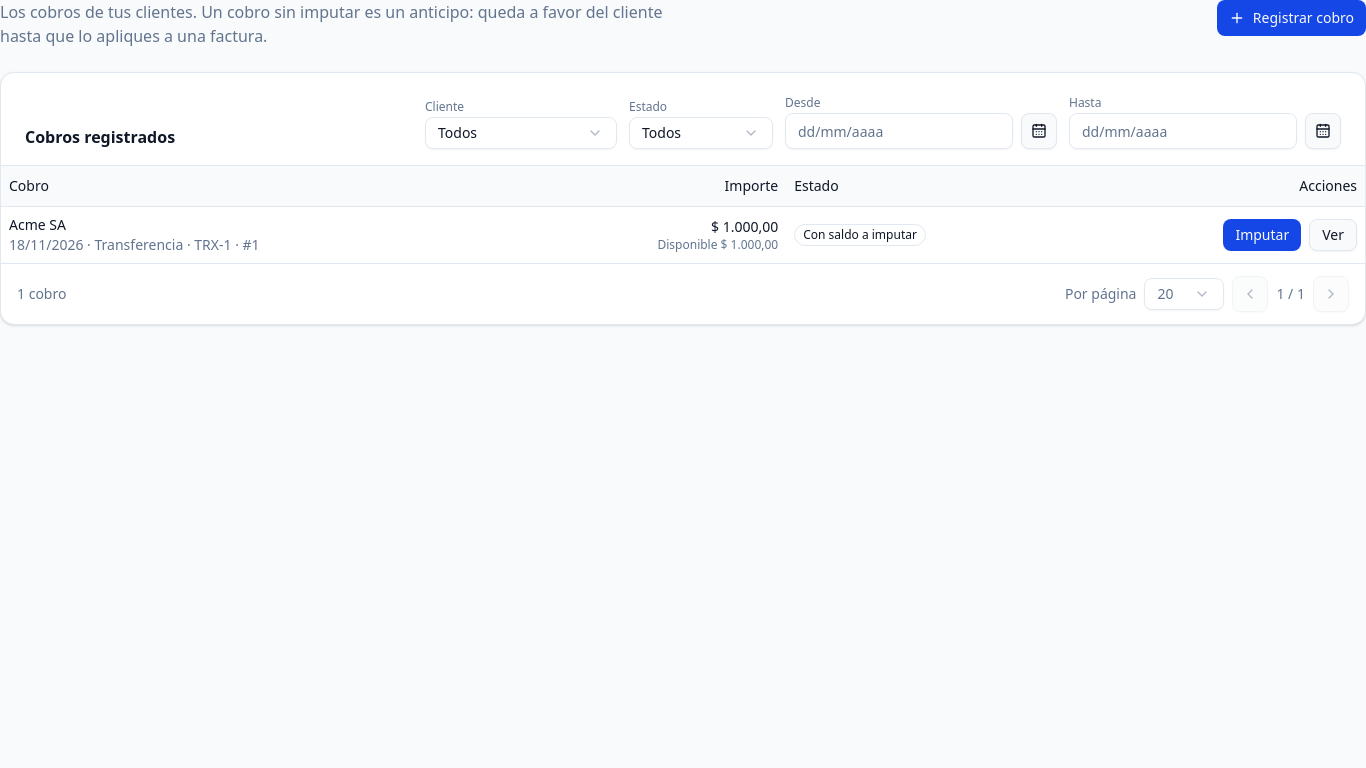
Test: Cobros: registrar › con importe y fecha válidos pero SIN cliente no deja registrar
The image size is (1366, 768).
expect the table is shown: met, box [1,166,1365,262]
Click the button "Registrar cobro" at {"x": 1291, "y": 18}, box [1217,0,1365,36]
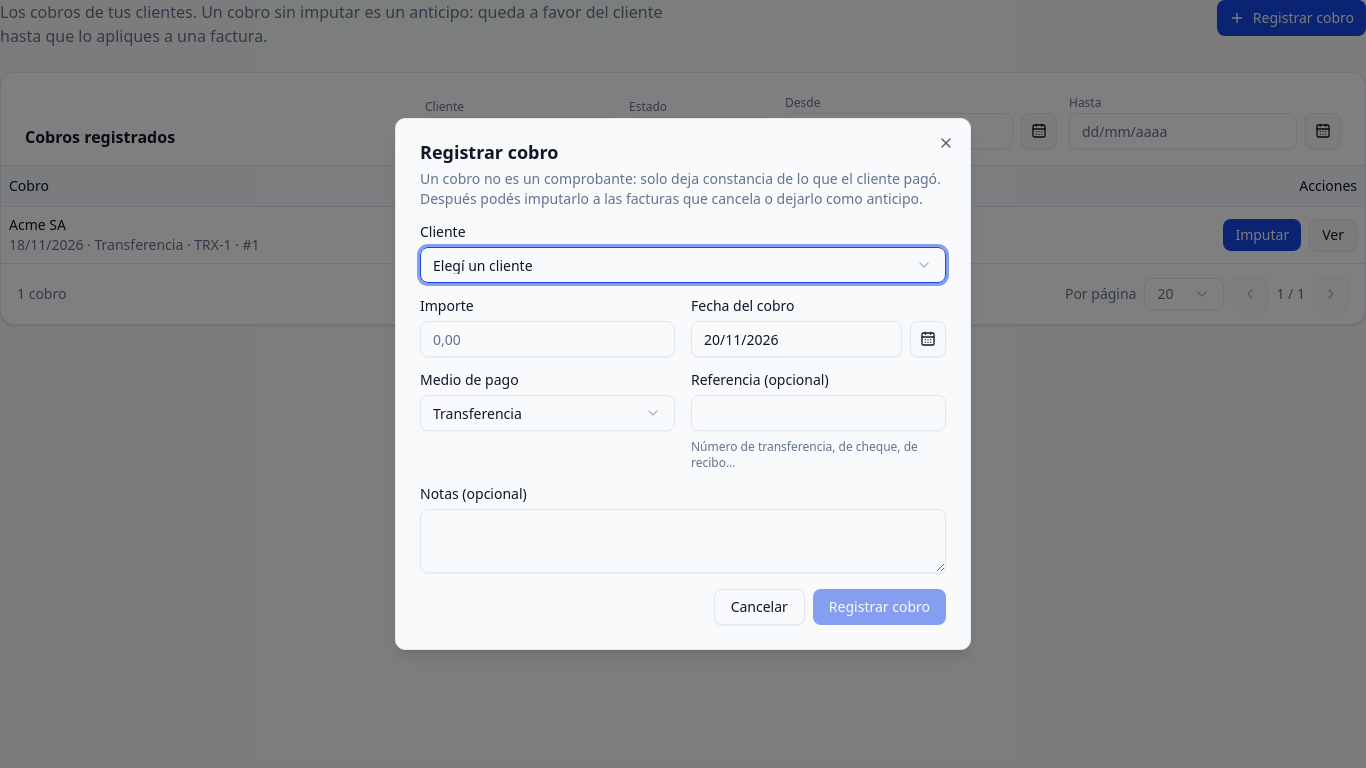
Type "100" into the field labelled "Importe" at {"x": 548, "y": 339}, box [420,321,675,357]
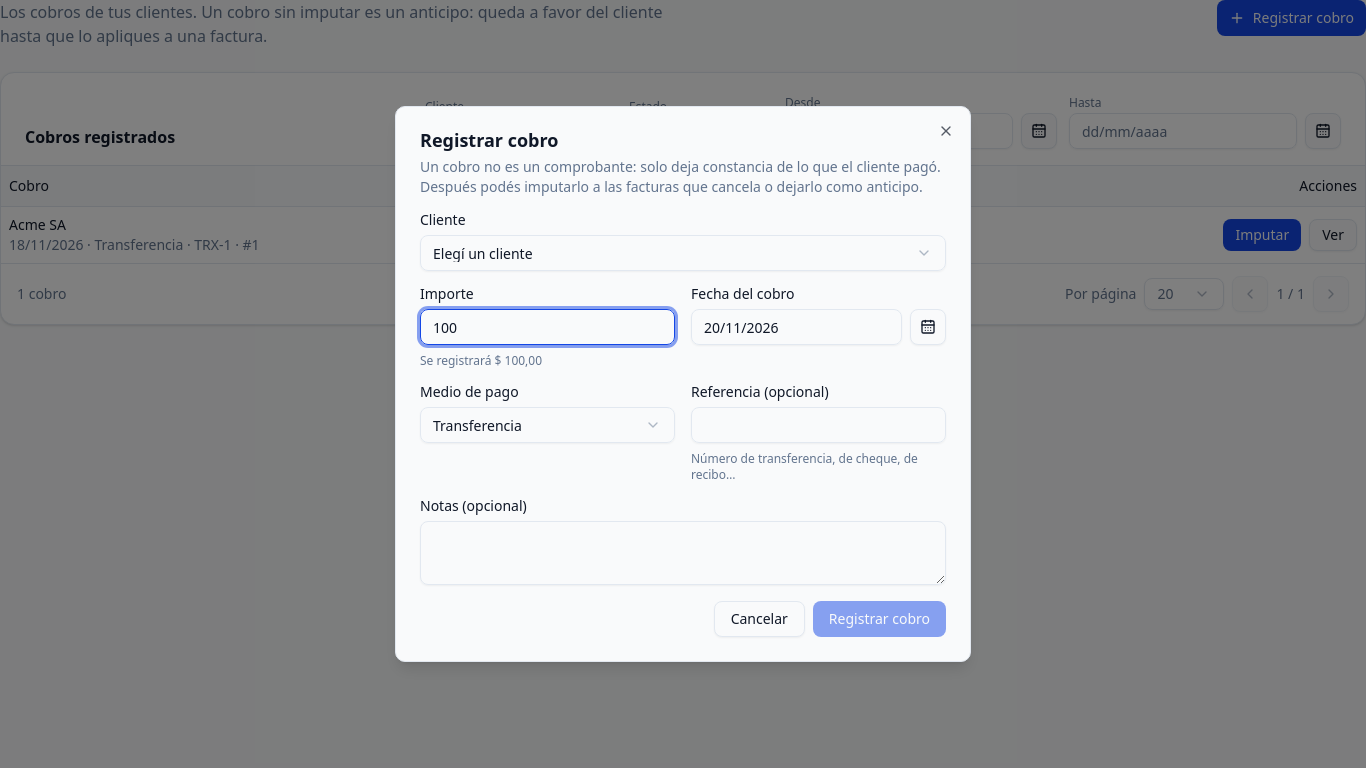
expect the button "Registrar cobro" is disabled: met, box [813,601,946,637]
Select "Acme SA" in the dropdown labelled "Cliente" at {"x": 683, "y": 253}, box [420,235,946,271]
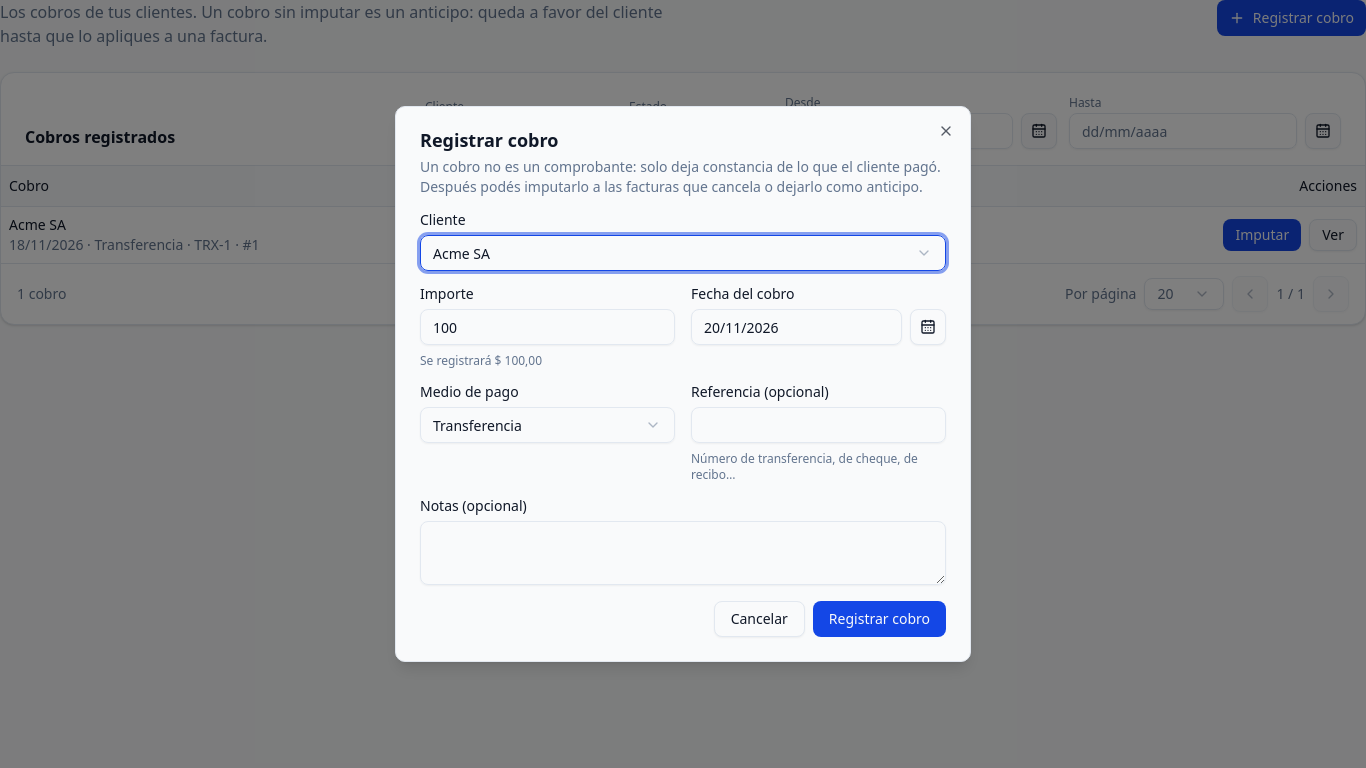
expect the button "Registrar cobro" is enabled: met, box [813,601,946,637]
